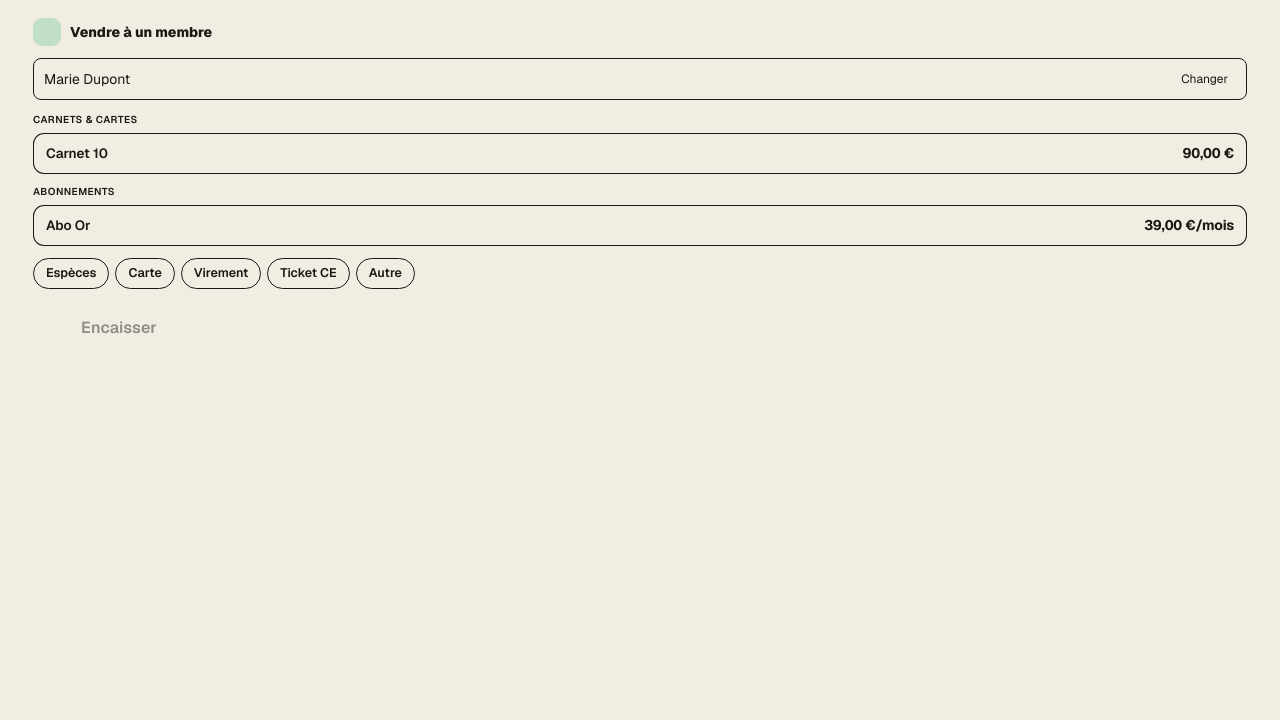
Test: vente réussie : confirmation visible puis acheteur réinitialisé (client suivant)
Click the text "Carnet 10" at (77, 154), box [46,143,108,164]
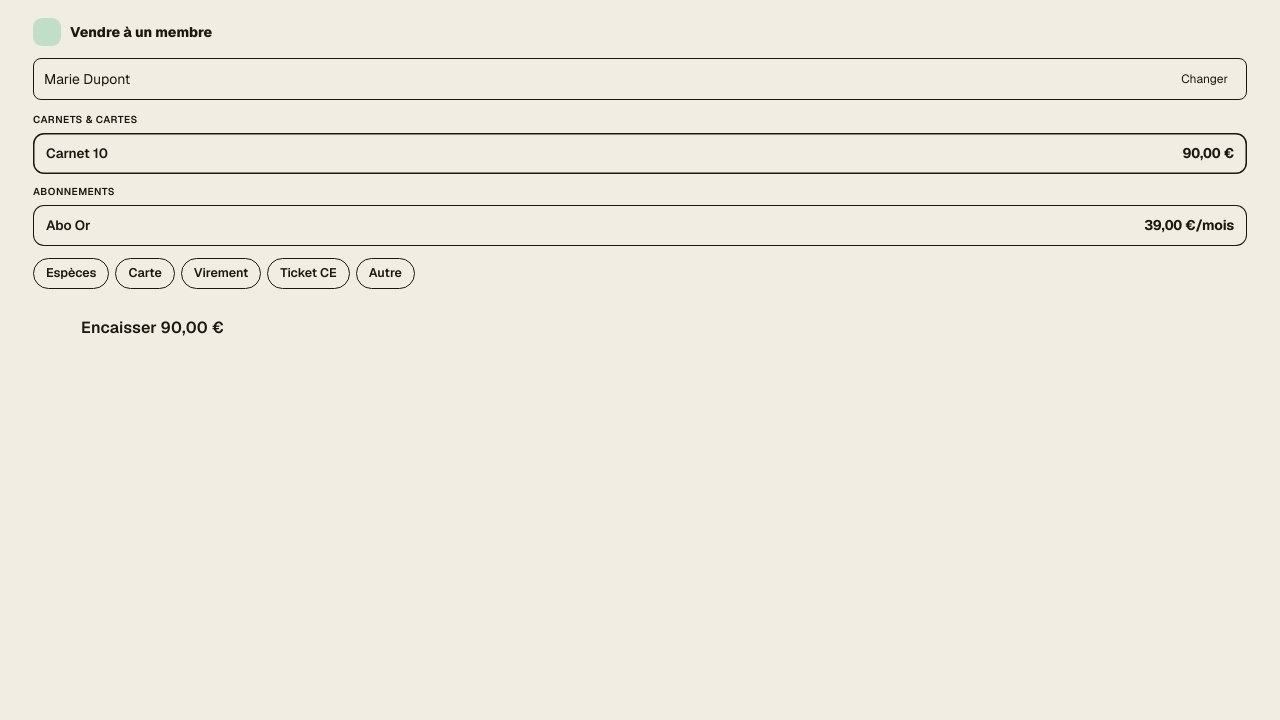
Click the button "Encaisser 90,00 €" at (138, 328), box [33,301,244,355]
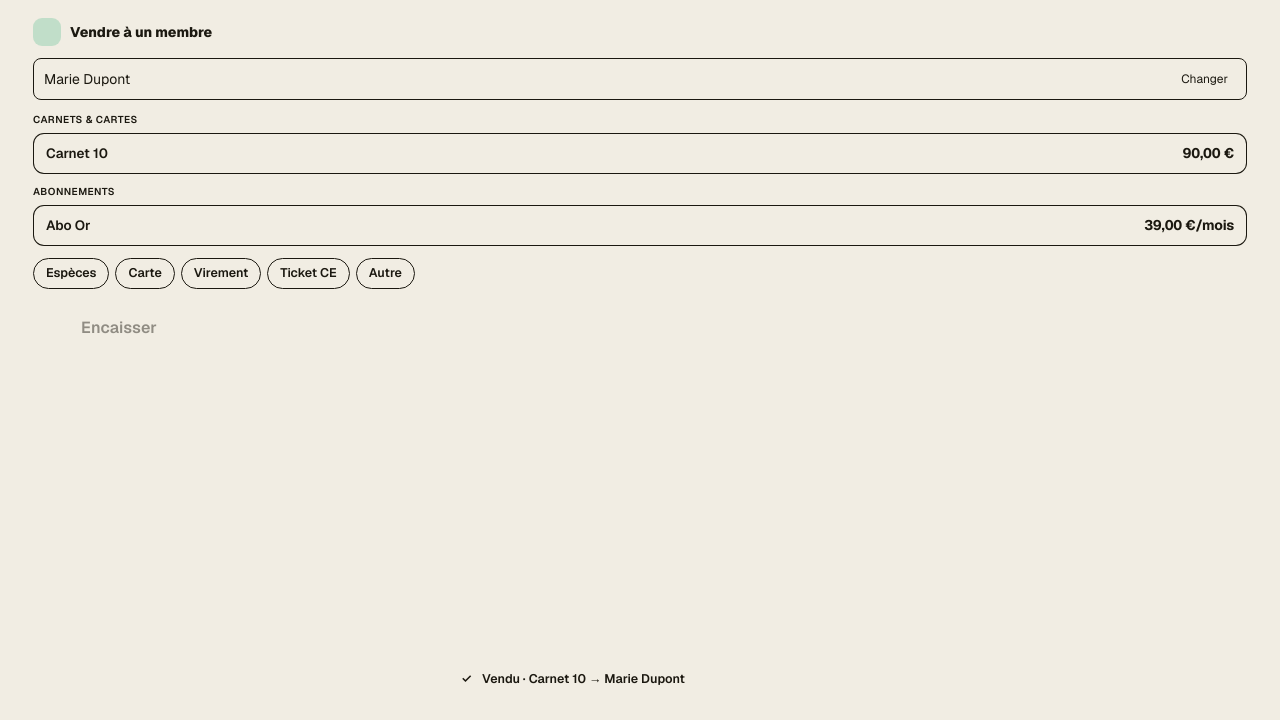
expect the message shows "Carnet 10": met, box [529,670,685,687]
expect the message shows "Marie Dupont": met, box [529,670,685,687]
